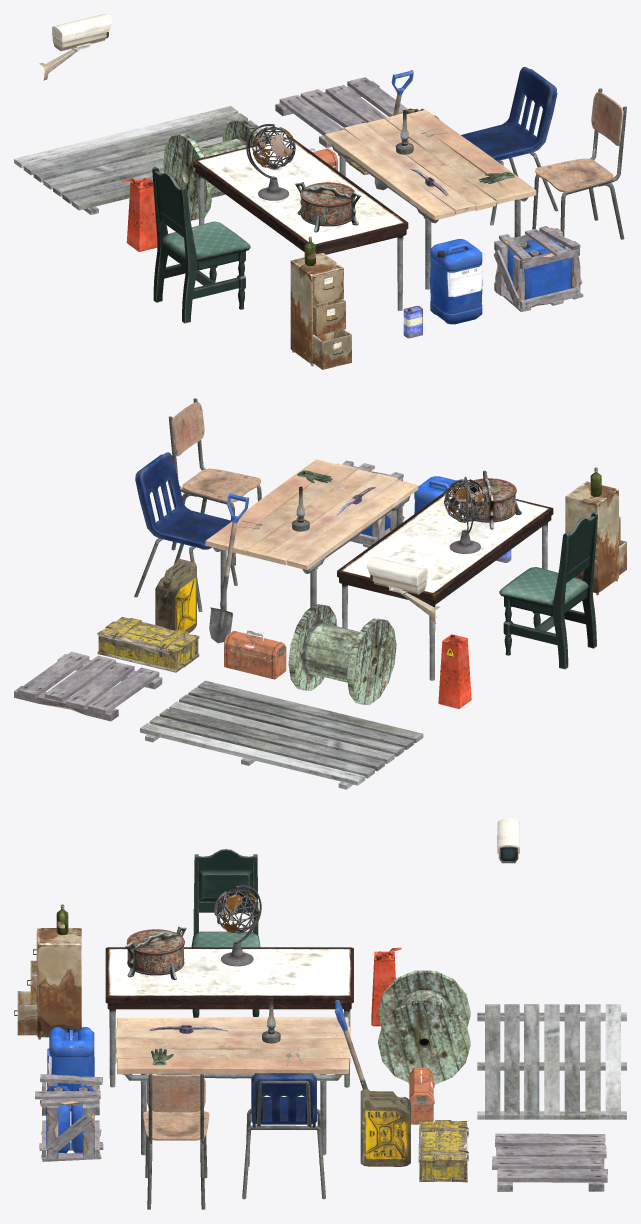
3 views of the same model, one above another, from view 1: azimuth 30°, elevation 25°; view 2: azimuth 150°, elevation 25°; view 3: azimuth 270°, elevation 25° (orthographic). The views are drawn at different scales.
Visible parts, largest first — view 1: Cube.018, Cube.014, Cube.017, stol, Cube.022, Cube.020, Cube.016, Cube.019, Cube.003, Cube, Cube.001, stol.001 (+7 smaller); view 2: Cube.017, Cube.018, Cube.014, stol, Cube, Cube.019, Cube.020, Cube.012, Cube.016, Cube.001, Cube.009, Cube.005 (+7 smaller); view 3: Cube.014, Cube.017, Cube.018, Cube, Cube.019, Cube.022, Cube.016, Cube.001, Cube.020, stol, Cube.009, Cube.012 (+8 smaller).
Part boxes in pixels (<box>): Cube.018: <box>324,109,536,289</box>; Cube.014: <box>193,137,408,310</box>; Cube.017: <box>14,106,272,214</box>; stol: <box>152,166,250,323</box>; Cube.022: <box>493,226,583,311</box>; Cube.020: <box>461,66,558,225</box>; Cube.016: <box>532,88,626,239</box>; Cube.019: <box>275,77,407,148</box>; Cube.003: <box>430,239,482,324</box>; Cube: <box>163,119,261,220</box>; Cube.001: <box>290,253,343,366</box>; stol.001: <box>295,182,361,232</box>; Cube.017: <box>140,680,423,789</box>; Cube.018: <box>205,459,418,610</box>; Cube.014: <box>337,485,553,680</box>; stol: <box>499,512,597,669</box>; Cube: <box>288,604,396,705</box>; Cube.019: <box>14,651,162,721</box>; Cube.020: <box>134,452,237,611</box>; Cube.012: <box>97,617,199,672</box>; Cube.016: <box>168,398,261,565</box>; Cube.001: <box>565,481,618,595</box>; Cube.009: <box>155,558,196,633</box>; Cube.005: <box>224,630,286,679</box>; Cube.014: <box>105,947,353,1087</box>; Cube.017: <box>477,1004,626,1119</box>; Cube.018: <box>115,1017,350,1155</box>; Cube: <box>378,970,470,1084</box>; Cube.019: <box>492,1133,607,1191</box>; Cube.022: <box>35,1074,103,1161</box>; Cube.016: <box>143,1073,209,1209</box>; Cube.001: <box>37,928,81,1039</box>; Cube.020: <box>242,1073,325,1199</box>; stol: <box>191,849,260,1017</box>; Cube.009: <box>360,1089,410,1166</box>; Cube.012: <box>418,1120,468,1182</box>.
Size of the model in its own units: 18.99 by 7.78 by 22.72.
Materials: 7 (7 with a texture image).
